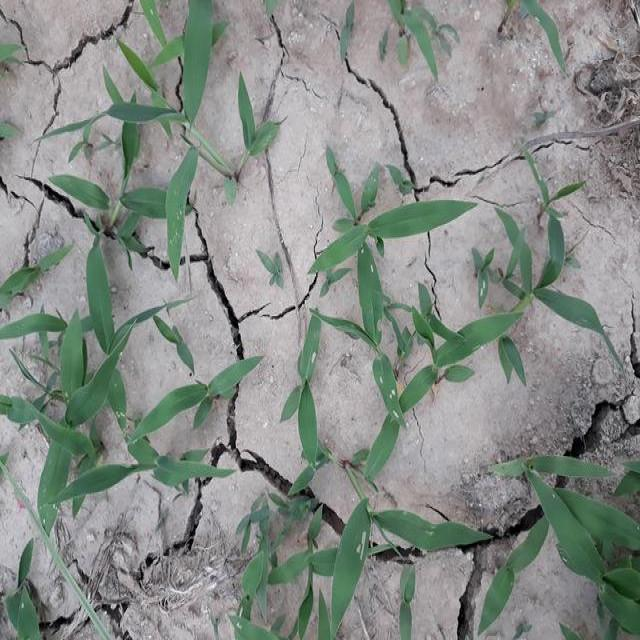weed: (278, 157, 490, 640), (19, 293, 249, 562), (80, 9, 236, 279)
